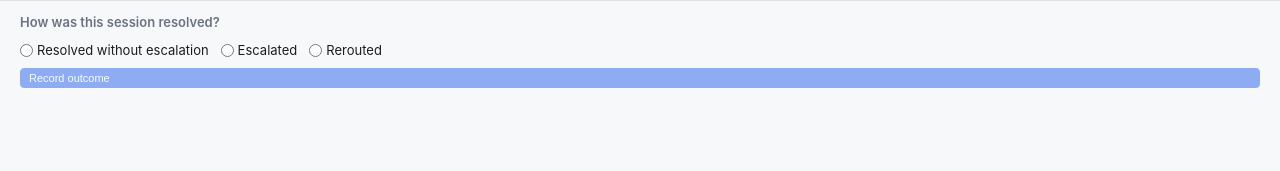
OutcomeWidget › shows target team input for Rerouted
The width and height of the screenshot is (1280, 171).
Step 1. Click the radio button with test id "resolution-Rerouted" → click(316, 50), box [309,44,322,57]
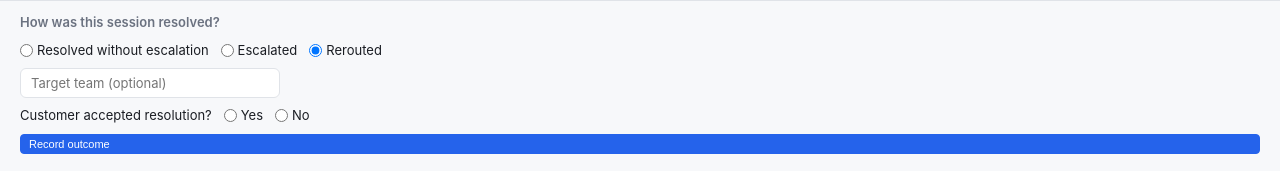
Expected: the field with test id "outcome-target-team" is shown, [20,68,280,98]
